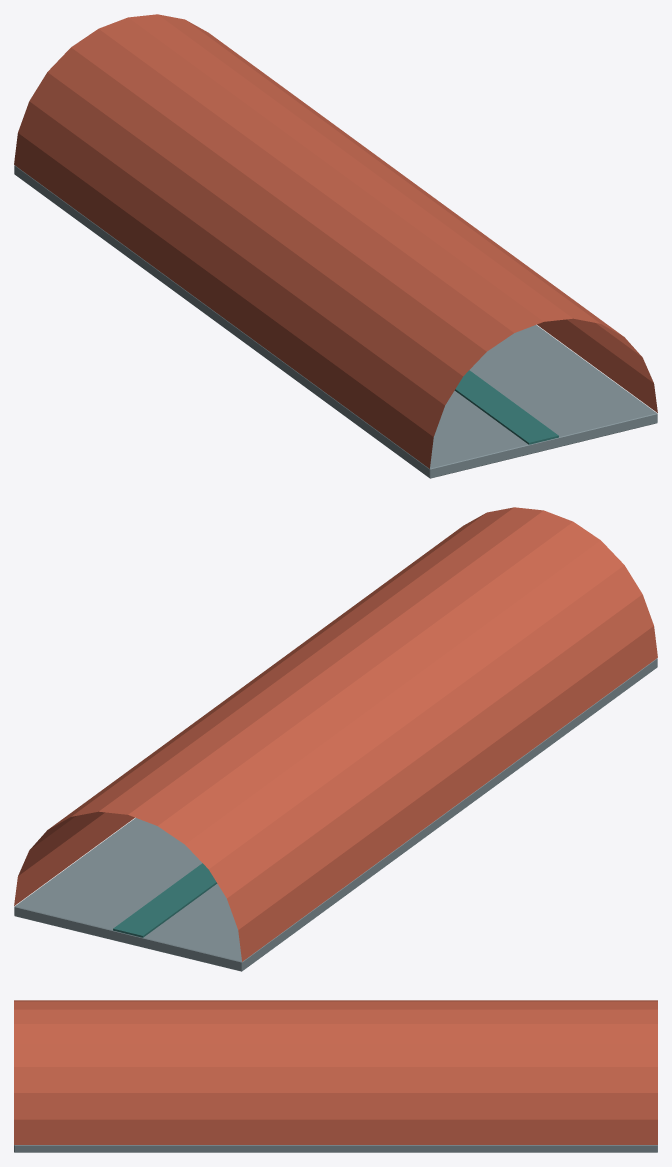
Rendered from Interior_SewerPassage.fbx.
3 views of the same model, one above another, from view 1: azimuth 30°, elevation 25°; view 2: azimuth 150°, elevation 25°; view 3: azimuth 270°, elevation 25° (orthographic). The views are drawn at different scales.
Parts seen in each view (by area): view 1: Walkway, TunnelSegment.009, TunnelSegment.008, TunnelSegment.010, TunnelSegment.007, TunnelSegment.011, TunnelSegment.006, TunnelSegment.005, TunnelSegment.004, TunnelSegment, DrainChannel, TunnelSegment.003 (+1 smaller); view 2: Walkway, TunnelSegment.009, TunnelSegment.008, TunnelSegment.010, TunnelSegment.007, TunnelSegment.011, TunnelSegment.006, TunnelSegment.005, TunnelSegment.004, TunnelSegment, DrainChannel, TunnelSegment.003 (+1 smaller); view 3: TunnelSegment.001, TunnelSegment, TunnelSegment.002, TunnelSegment.003, TunnelSegment.004, TunnelSegment.005, TunnelSegment.006, Walkway, TunnelSegment.007.
Boxes of the visible parts, bbox=[...] form: Walkway: bbox=[14, 165, 657, 478]; TunnelSegment.009: bbox=[29, 72, 462, 405]; TunnelSegment.008: bbox=[48, 47, 486, 376]; TunnelSegment.010: bbox=[18, 101, 444, 436]; TunnelSegment.007: bbox=[71, 29, 513, 351]; TunnelSegment.011: bbox=[14, 133, 433, 468]; TunnelSegment.006: bbox=[99, 17, 543, 332]; TunnelSegment.005: bbox=[128, 14, 572, 321]; TunnelSegment.004: bbox=[158, 14, 600, 323]; TunnelSegment: bbox=[537, 319, 657, 412]; DrainChannel: bbox=[454, 370, 558, 444]; TunnelSegment.003: bbox=[186, 20, 623, 336]; Walkway: bbox=[14, 658, 657, 971]; TunnelSegment.009: bbox=[209, 565, 642, 898]; TunnelSegment.008: bbox=[185, 540, 623, 869]; TunnelSegment.010: bbox=[227, 594, 653, 929]; TunnelSegment.007: bbox=[158, 522, 600, 844]; TunnelSegment.011: bbox=[238, 626, 657, 961]; TunnelSegment.006: bbox=[128, 510, 572, 825]; TunnelSegment.005: bbox=[99, 507, 543, 814]; TunnelSegment.004: bbox=[71, 507, 513, 816]; TunnelSegment: bbox=[14, 812, 134, 905]; DrainChannel: bbox=[113, 863, 217, 937]; TunnelSegment.003: bbox=[48, 513, 485, 829]; TunnelSegment.001: bbox=[14, 1093, 657, 1119]; TunnelSegment: bbox=[14, 1119, 657, 1144]; TunnelSegment.002: bbox=[14, 1067, 657, 1092]; TunnelSegment.003: bbox=[14, 1043, 657, 1066]; TunnelSegment.004: bbox=[14, 1024, 657, 1043]; TunnelSegment.005: bbox=[14, 1009, 657, 1023]; TunnelSegment.006: bbox=[14, 1001, 657, 1009]; Walkway: bbox=[14, 1145, 657, 1152]; TunnelSegment.007: bbox=[14, 1000, 657, 1001].
Size of the model in its own units: 3.8 by 2.06 by 12.
